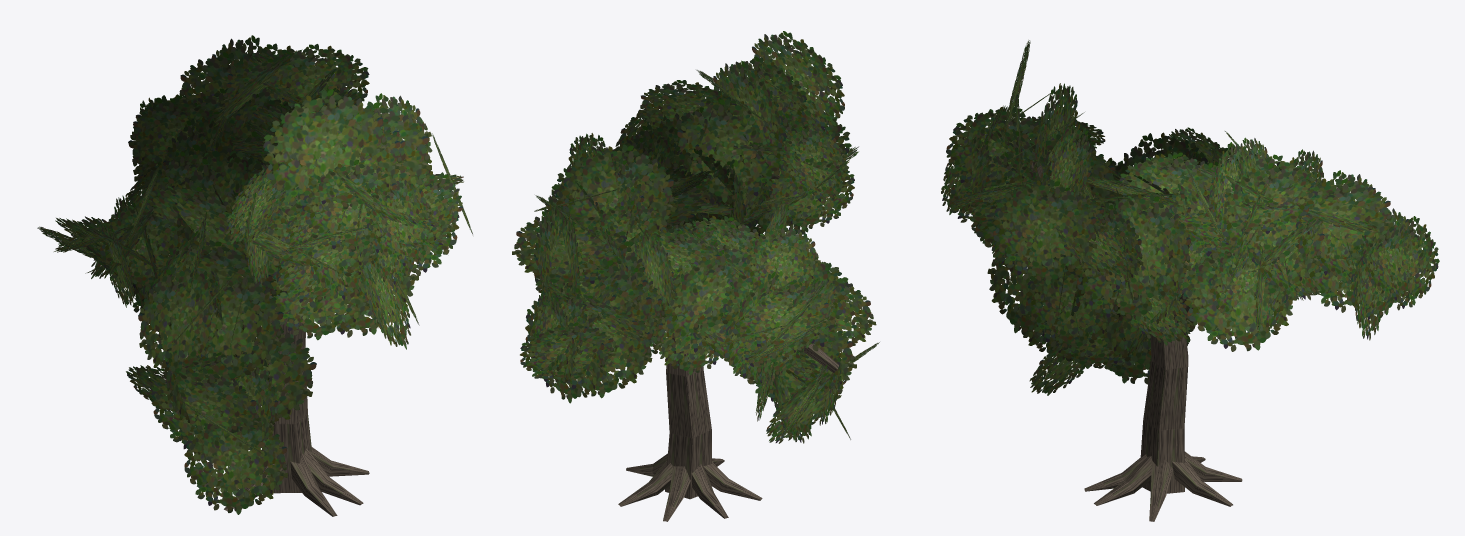
The model's file is TwistedTree_1_LOD1.gltf.
The picture shows the model from 3 angles, left to right: view 1: azimuth 30°, elevation 25°; view 2: azimuth 150°, elevation 25°; view 3: azimuth 270°, elevation 25°; orthographic projection. The views are drawn at different scales.
Parts seen in each view (by area): view 1: TwistedTree_1_LOD1; view 2: TwistedTree_1_LOD1; view 3: TwistedTree_1_LOD1.
Boxes of the visible parts, box(x1,y1,x2,y2) form: TwistedTree_1_LOD1: box(37, 35, 472, 516); TwistedTree_1_LOD1: box(512, 31, 879, 521); TwistedTree_1_LOD1: box(941, 40, 1439, 521).
Bounding box in the file's own units: 13.8 × 17.56 × 19.32.
Materials: 2 (2 with a texture image).
